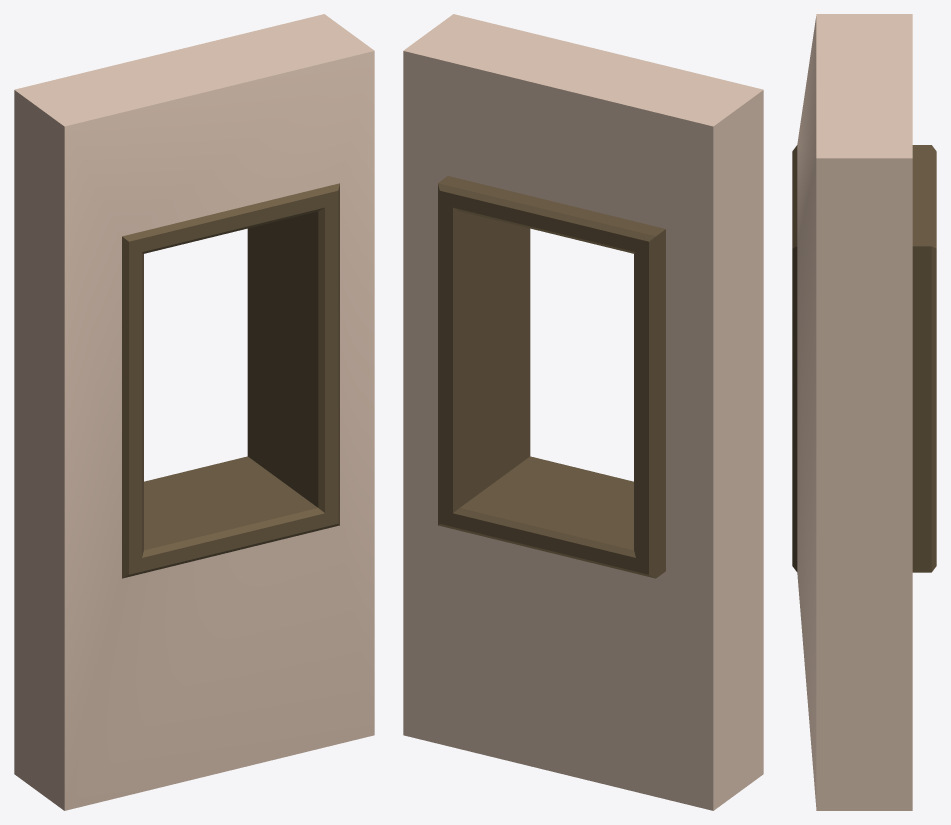
File: greek_wall_2_window_new.fbx
The picture shows the model from 3 angles, left to right: view 1: azimuth 30°, elevation 25°; view 2: azimuth 150°, elevation 25°; view 3: azimuth 270°, elevation 25°; orthographic projection. The views are drawn at different scales.
Visible parts, largest first — view 1: Cube.077; view 2: Cube.077; view 3: Cube.077.
Boxes of the visible parts, box(x1,y1,x2,y2) form: Cube.077: box(14, 14, 374, 810); Cube.077: box(403, 14, 763, 810); Cube.077: box(792, 14, 936, 810).
Bounding box in the file's own units: 142 × 300 × 60.
